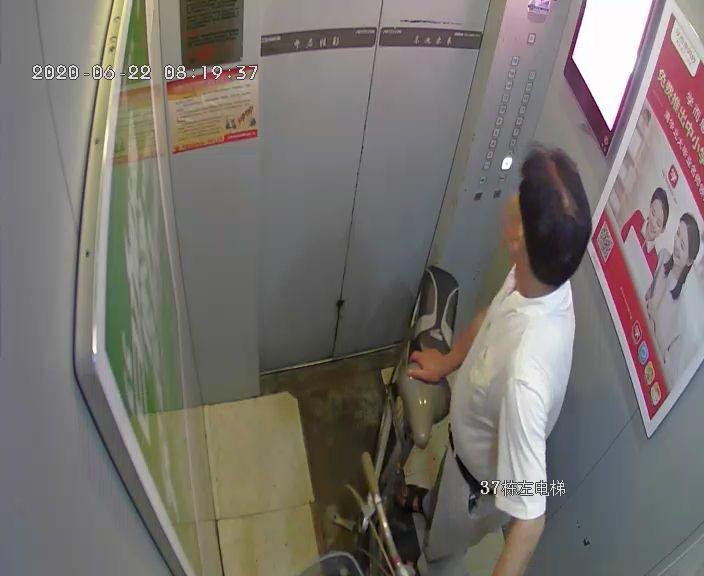Electric-bicycle: (346, 264, 458, 572)
